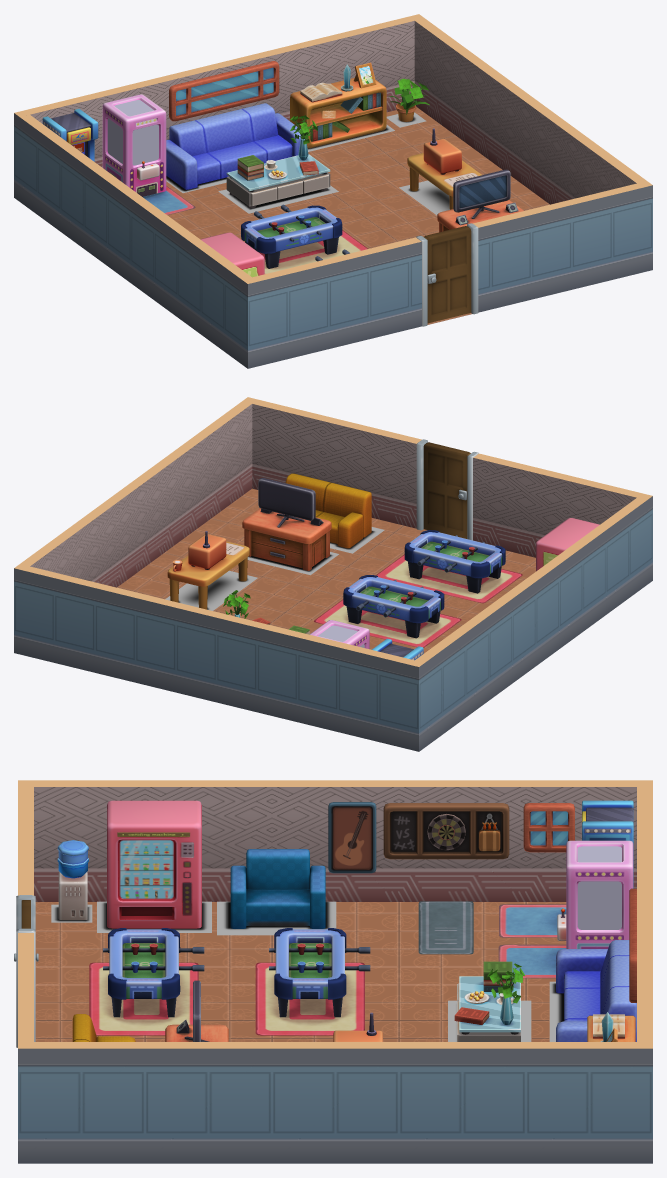
File: StudentLounge.FBX
The picture shows the model from 3 angles, top to bottom: view 1: azimuth 30°, elevation 25°; view 2: azimuth 150°, elevation 25°; view 3: azimuth 270°, elevation 25°; orthographic projection. The views are drawn at different scales.
Parts seen in each view (by area): view 1: StudentLounge_Item_Sofa_03, School_Well010, School_Well011, School_Well013, School_Well014, StudentLounge_Item_Cabinet, StudentLounge_Item_SoccerTable, StudentLounge_Item_ClawMachine, StudentLounge_Item_TeaTable, StudentLounge_Item_Window_01, School_Well018, StudentLounge_Wall006 (+41 smaller); view 2: School_Well004, School_Well, School_Well001, School_Well003, School_Well002, StudentLounge_Item_SoccerTable001, StudentLounge_Item_SoccerTable, StudentLounge_Wall013, StudentLounge_Item_Television, StudentLounge_Wall011, StudentLounge_Wall010, School_Well016 (+40 smaller); view 3: School_Well005, School_Well006, School_Well007, School_Well008, School_Well009, StudentLounge_Item_VendingMachine, StudentLounge_Item_SoccerTable, StudentLounge_Item_DartBoard, StudentLounge_Item_SoccerTable001, StudentLounge_Wall018, StudentLounge_Wall017, StudentLounge_Wall015 (+54 smaller).
Boxes of the visible parts, x1=… form: StudentLounge_Item_Sofa_03: x1=166, y1=103, x2=306, y2=189; School_Well010: x1=572, y1=185, x2=652, y2=289; School_Well011: x1=491, y1=205, x2=571, y2=309; School_Well013: x1=329, y1=244, x2=409, y2=348; School_Well014: x1=248, y1=264, x2=328, y2=368; StudentLounge_Item_Cabinet: x1=290, y1=62, x2=386, y2=148; StudentLounge_Item_SoccerTable: x1=241, y1=204, x2=367, y2=273; StudentLounge_Item_ClawMachine: x1=102, y1=94, x2=195, y2=214; StudentLounge_Item_TeaTable: x1=226, y1=115, x2=330, y2=208; StudentLounge_Item_Window_01: x1=169, y1=61, x2=279, y2=121; School_Well018: x1=60, y1=147, x2=107, y2=265; StudentLounge_Wall006: x1=455, y1=51, x2=502, y2=169; School_Well004: x1=14, y1=568, x2=94, y2=672; School_Well: x1=338, y1=647, x2=418, y2=751; School_Well001: x1=257, y1=627, x2=337, y2=731; School_Well003: x1=95, y1=588, x2=175, y2=692; School_Well002: x1=176, y1=608, x2=256, y2=712; StudentLounge_Item_SoccerTable001: x1=376, y1=530, x2=522, y2=603; StudentLounge_Item_SoccerTable: x1=314, y1=575, x2=461, y2=647; StudentLounge_Wall013: x1=485, y1=460, x2=565, y2=557; StudentLounge_Item_Television: x1=242, y1=478, x2=331, y2=570; StudentLounge_Wall011: x1=323, y1=421, x2=403, y2=525; StudentLounge_Wall010: x1=252, y1=404, x2=322, y2=489; School_Well016: x1=559, y1=530, x2=606, y2=648; School_Well005: x1=526, y1=1048, x2=652, y2=1163; School_Well006: x1=399, y1=1048, x2=525, y2=1163; School_Well007: x1=272, y1=1048, x2=398, y2=1163; School_Well008: x1=145, y1=1048, x2=271, y2=1163; School_Well009: x1=18, y1=1048, x2=144, y2=1163; StudentLounge_Item_VendingMachine: x1=107, y1=800, x2=201, y2=928; StudentLounge_Item_SoccerTable: x1=255, y1=928, x2=370, y2=1035; StudentLounge_Item_DartBoard: x1=383, y1=803, x2=509, y2=954; StudentLounge_Item_SoccerTable001: x1=89, y1=928, x2=204, y2=1035; StudentLounge_Wall018: x1=399, y1=787, x2=525, y2=901; StudentLounge_Wall017: x1=272, y1=787, x2=398, y2=901; StudentLounge_Wall015: x1=34, y1=787, x2=144, y2=901.
Bounding box in the file's own units: 10 × 2.02 × 10.06.
